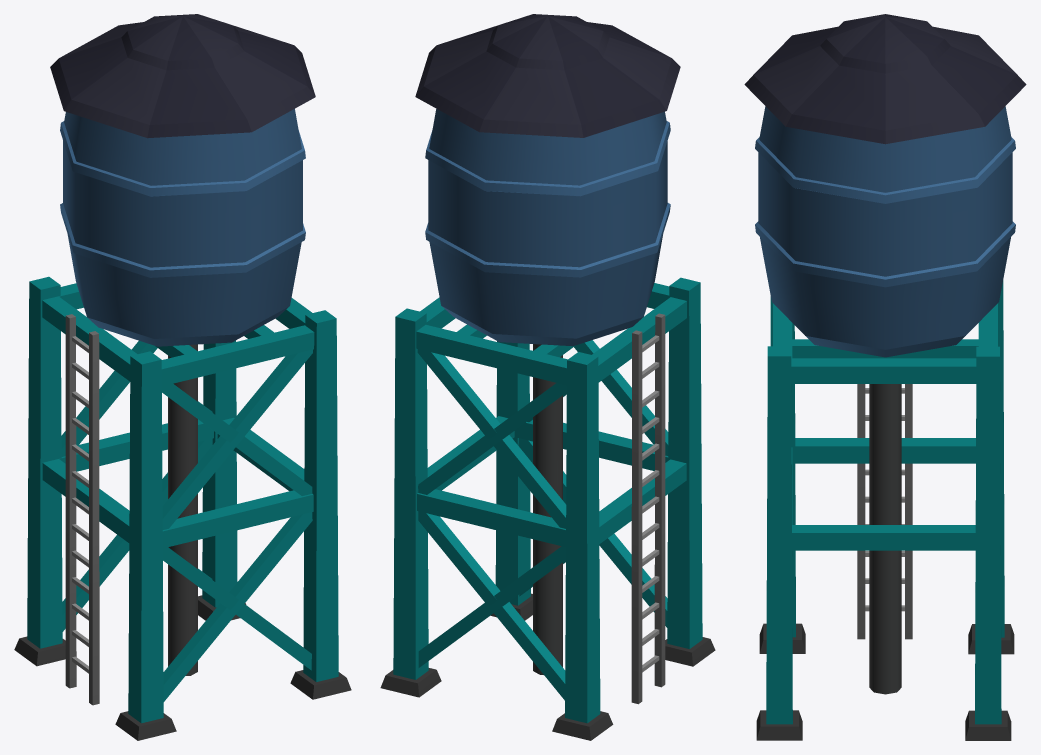
File: WaterTank_2_C.fbx
3 views of the same model, side by side, from view 1: azimuth 30°, elevation 25°; view 2: azimuth 150°, elevation 25°; view 3: azimuth 270°, elevation 25° (orthographic). The views are drawn at different scales.
Visible parts, largest first — view 1: WaterTank_2_C; view 2: WaterTank_2_C; view 3: WaterTank_2_C.
Boxes of the visible parts, bbox=[...] form: WaterTank_2_C: bbox=[14, 14, 351, 740]; WaterTank_2_C: bbox=[380, 14, 715, 740]; WaterTank_2_C: bbox=[744, 14, 1026, 740].
Bounding box in the file's own units: 119 × 312 × 119.
